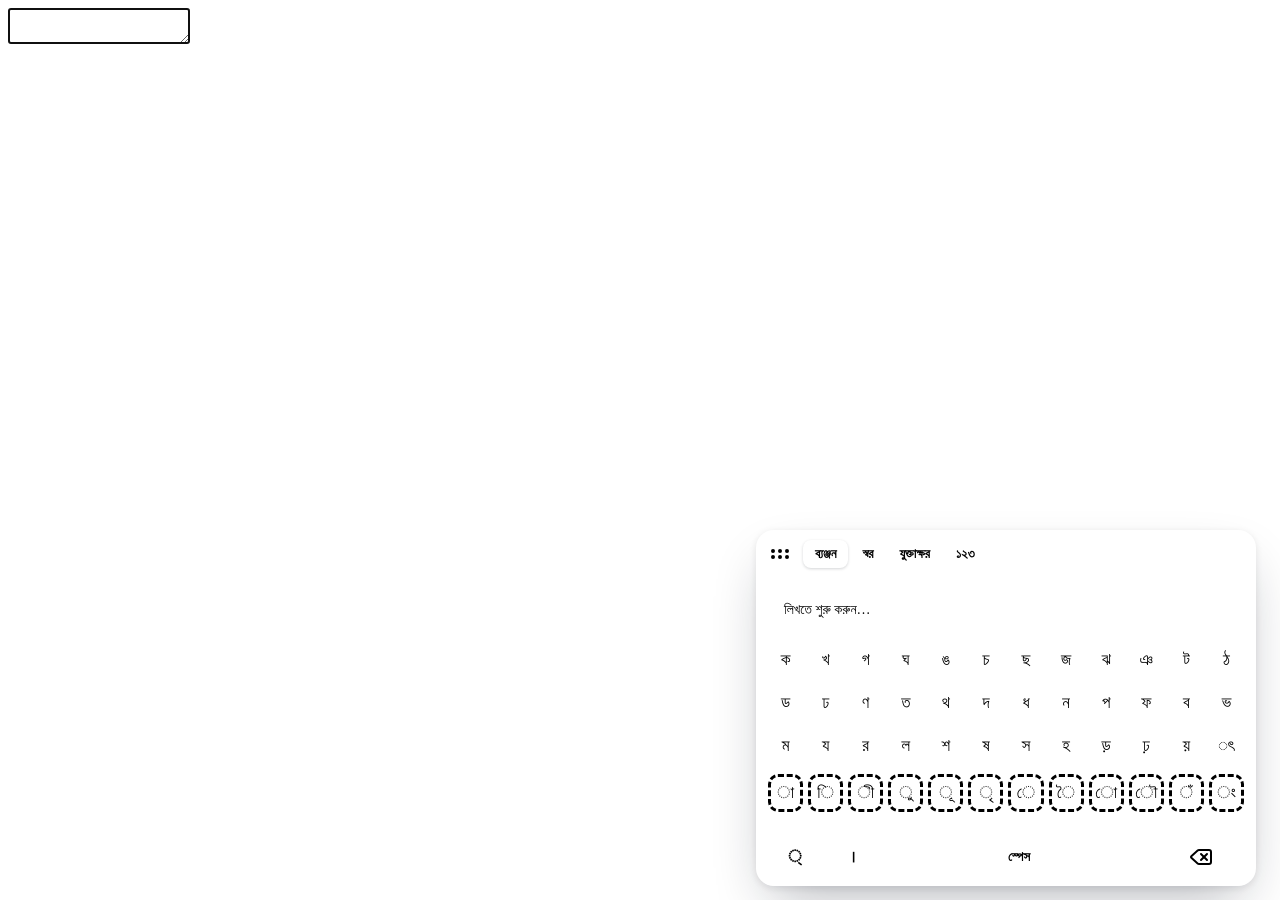
Test: BanglaKeyboard › types the letter that was tapped into the focused field
Click the button "ক": (786, 660) [768,640,803,678]
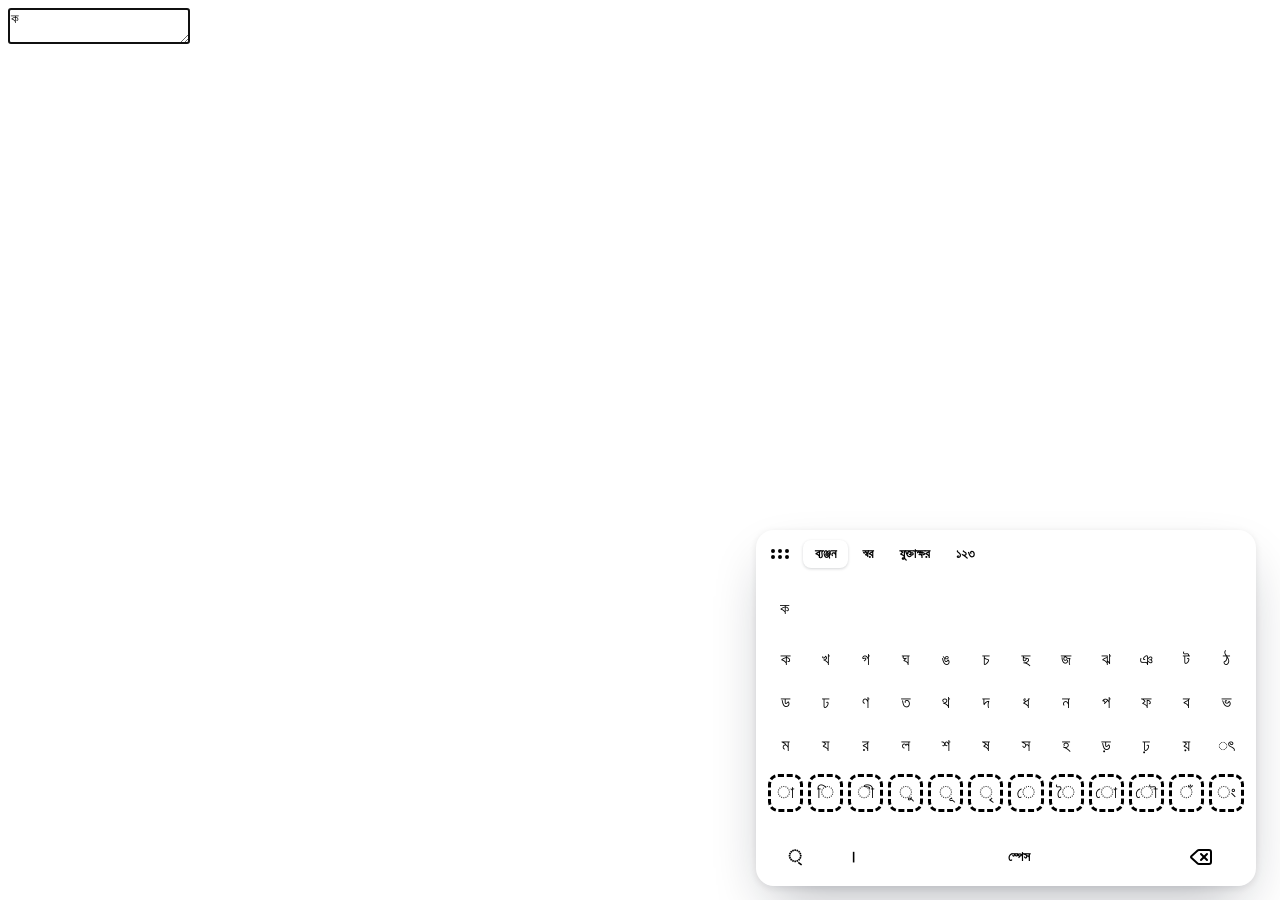
Click the button "◌া": (786, 792) [768,774,803,812]
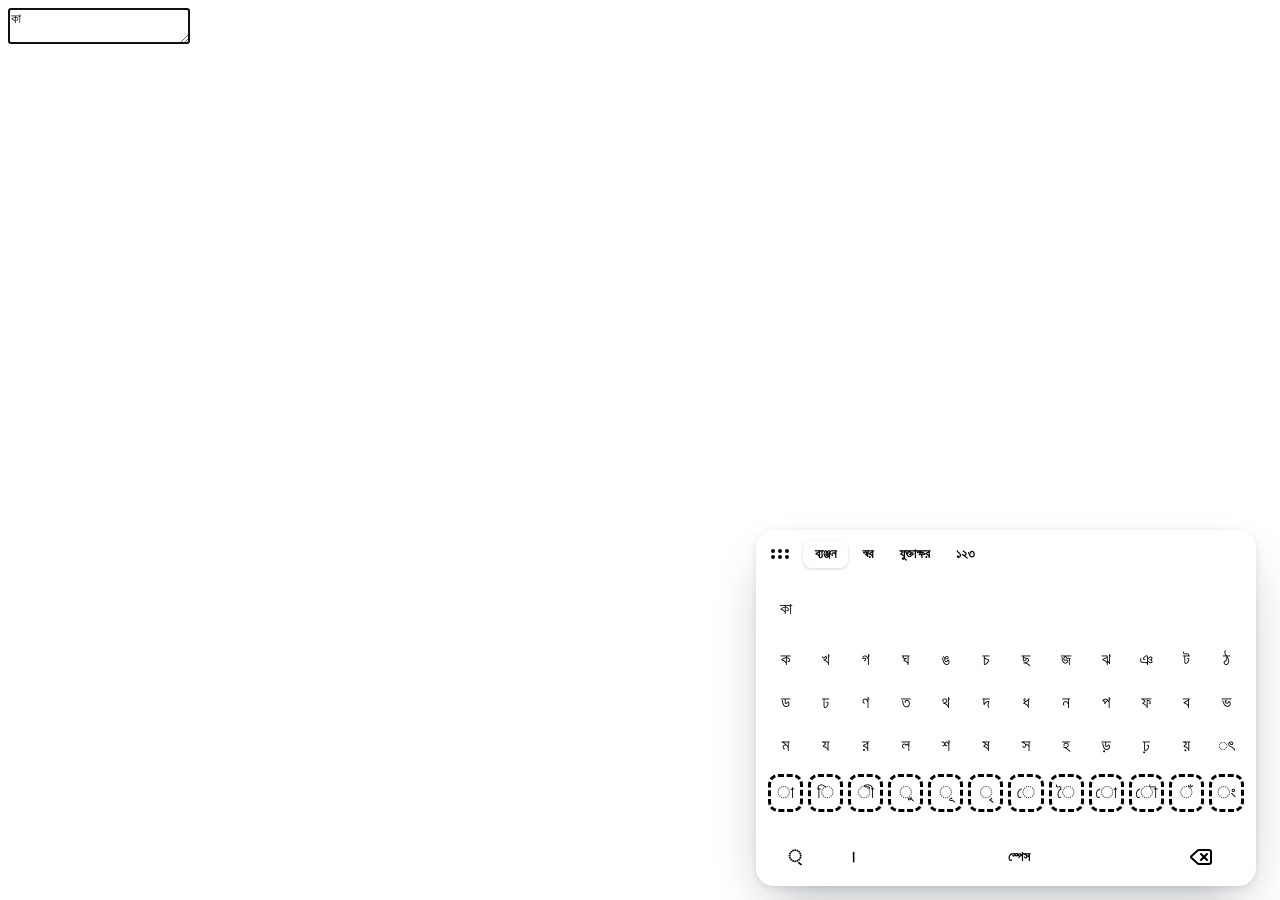
Click the button "ল": (906, 746) [888,726,923,764]
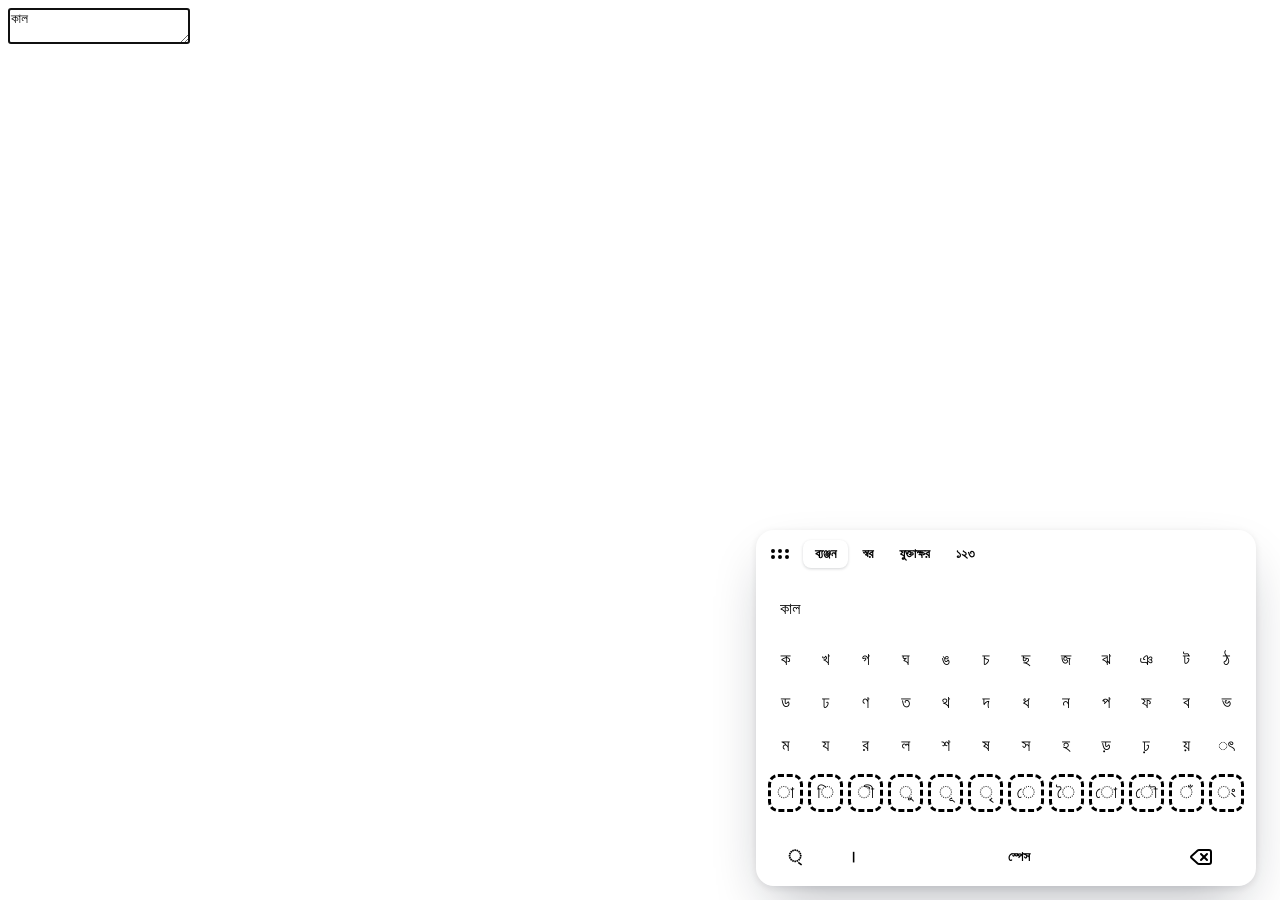
Expected: the text box named "advice" holds "কাল", [8,8,190,44]
